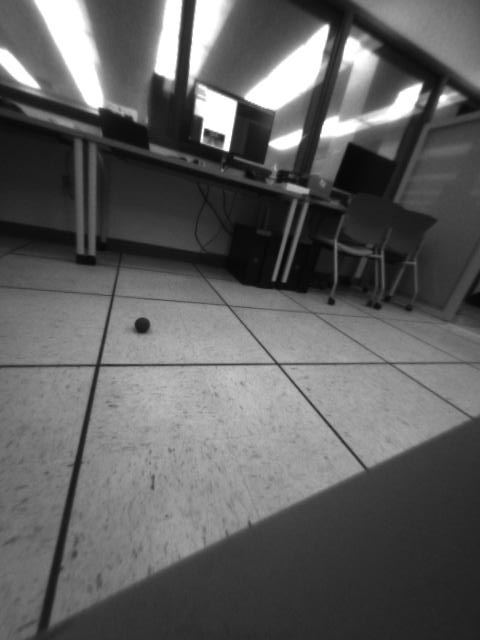dogtoy: (129, 306, 154, 340)
